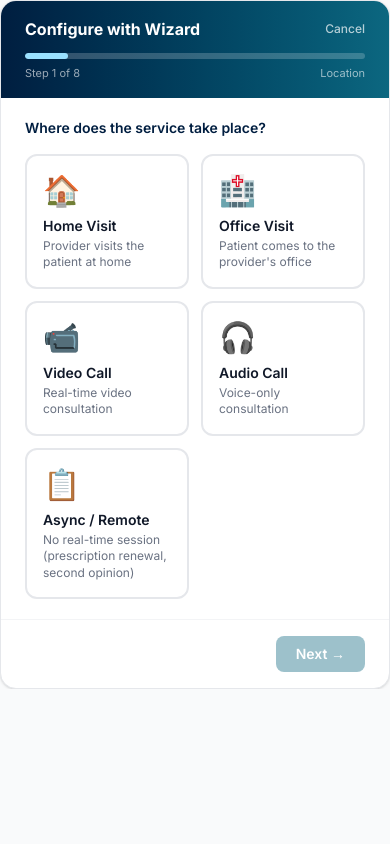
it: WorkflowWizard › 4b. step 2 Next is always enabled (recurrence has defaults)
This screenshot has width=390, height=844.
Click the text "Home Visit". click: {"x": 80, "y": 225}
box: [43,216,116,234]
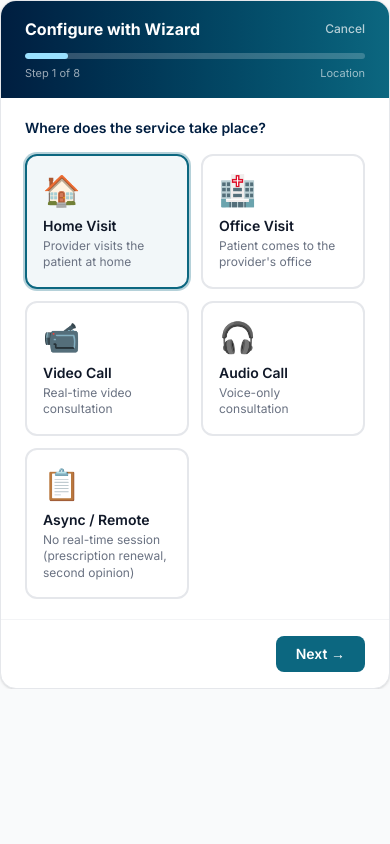
Click the button "Next →". click: {"x": 320, "y": 654}
box: [276,636,365,672]
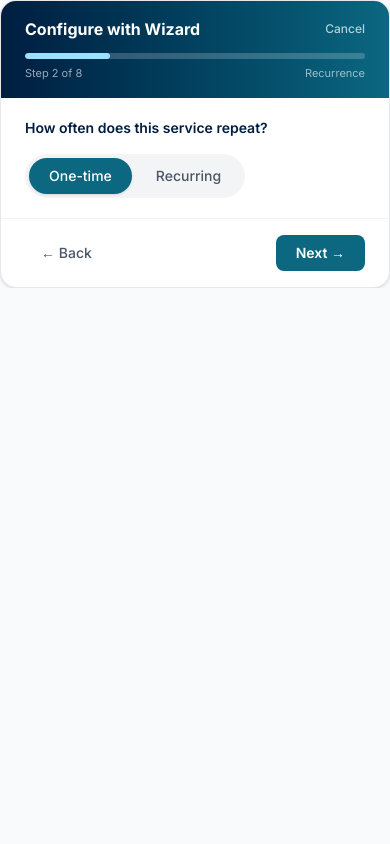
Now the button "Next →" is enabled, box [276,234,365,270]
Now the heading "How often does this service repeat?" is shown, box [25,118,268,136]
